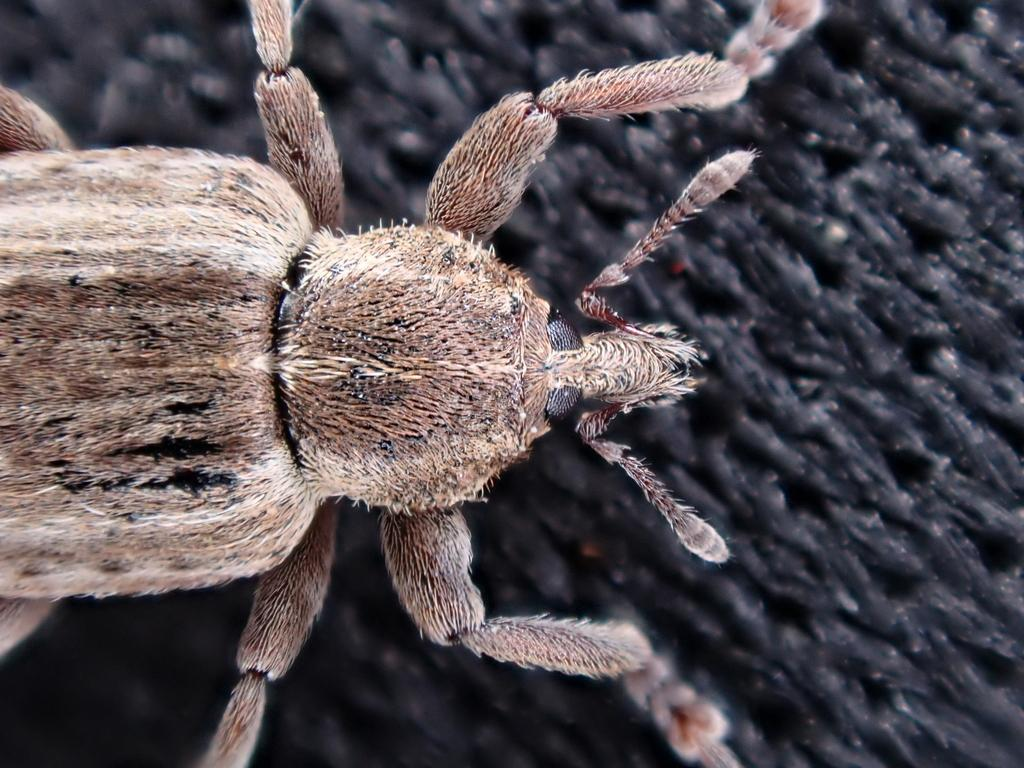weevils: (0, 0, 915, 768)
